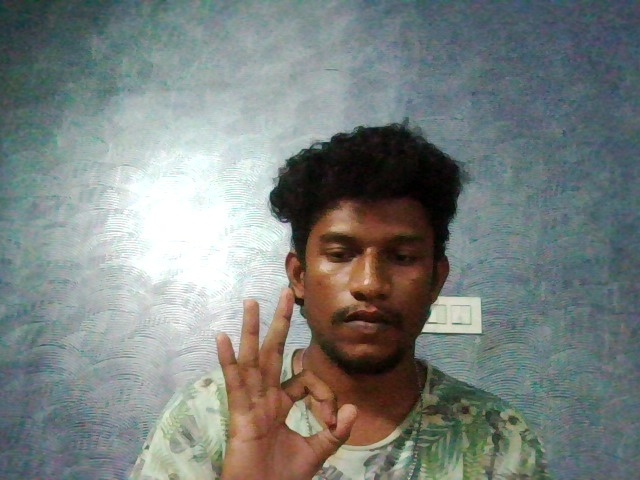good: (155, 266, 393, 480)
